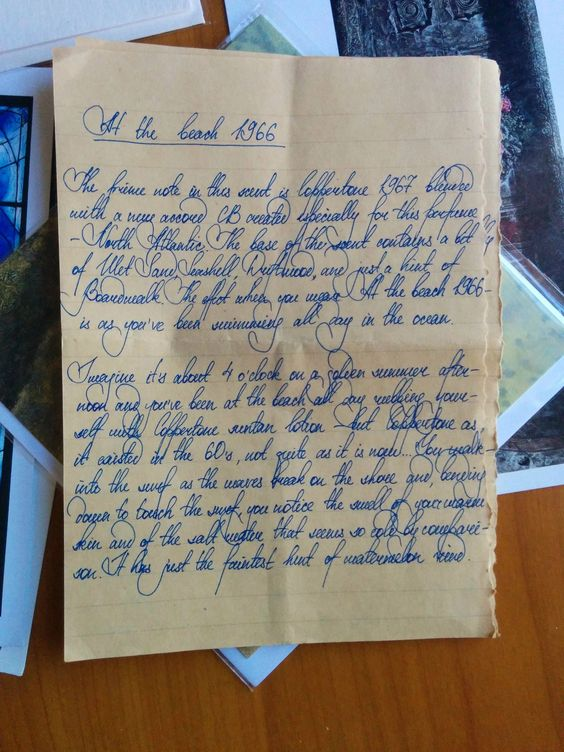page: (64, 57, 488, 638)
